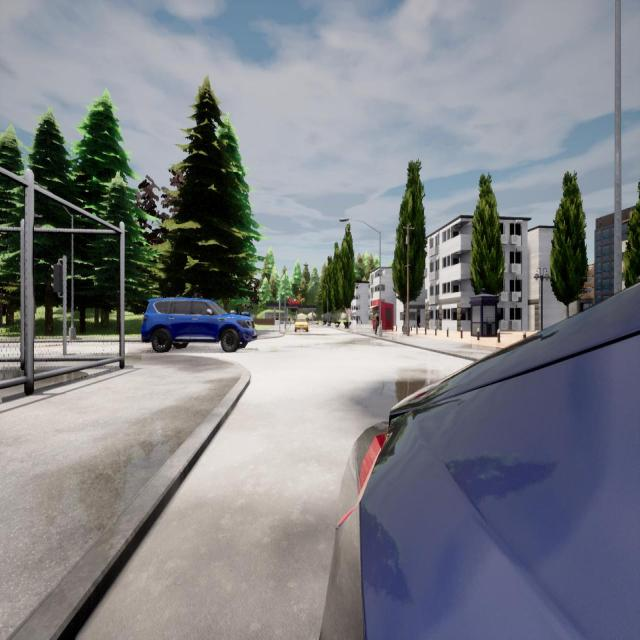Pedestrian: (375, 311, 379, 334)
Traffic_Signs: (347, 309, 351, 314)
Vehicle: (322, 288, 640, 640), (141, 297, 257, 352), (294, 316, 309, 333)
traffic_light: (51, 263, 62, 292)
